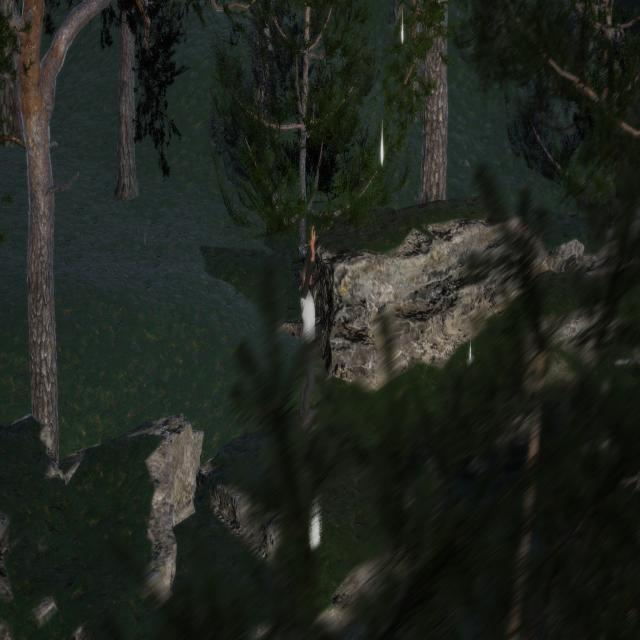Human: (280, 209, 333, 443)
